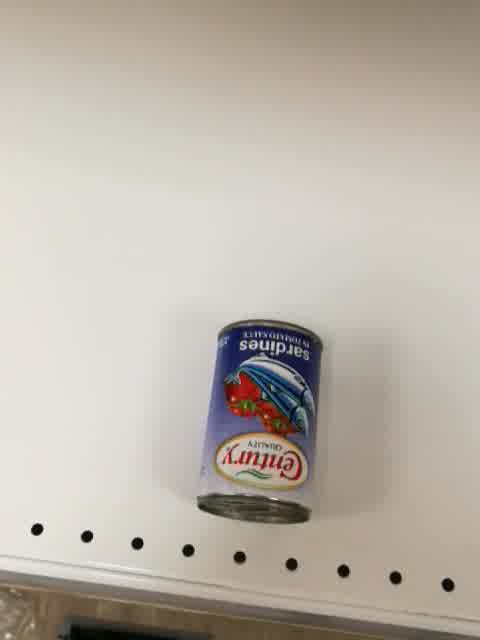sardine: (194, 317, 324, 529)
